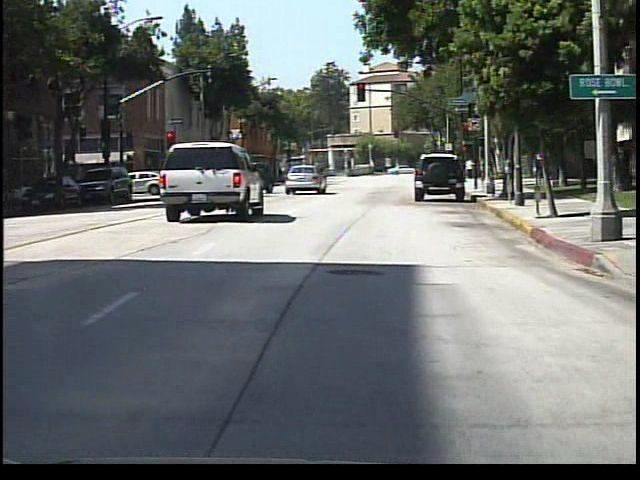person: (313, 157, 334, 194), (532, 153, 549, 191), (466, 157, 476, 181)
